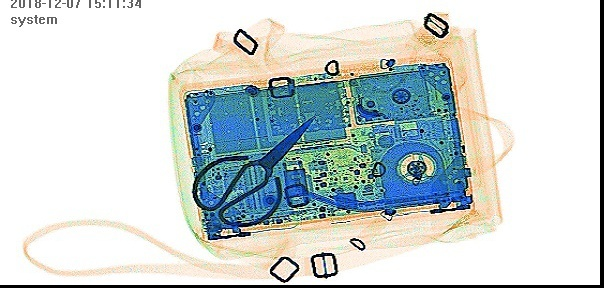scissors: (189, 112, 319, 228)
